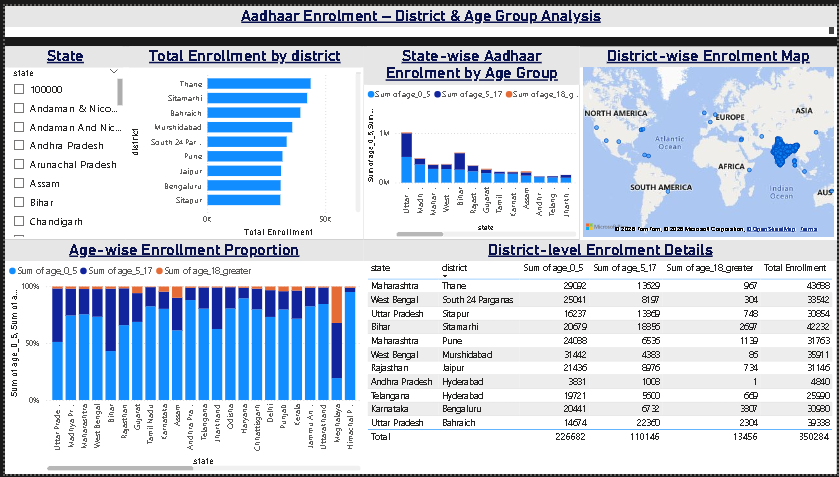

Layout of this report page (visuals, bound fields, positions):
{"tool":"powerbi","page":{"name":"Age And District Details","canvas":[1280,720],"ordinal":1},"visuals":[{"type":"columnChart","title":"State-wise Aadhaar Enrolment by Age Group","fields":{"Category":["Aadhaar_Enrolment_Fact.state"],"Y":["Sum(Aadhaar_Enrolment_Fact.age_0_5)","Sum(Aadhaar_Enrolment_Fact.age_5_17)","Sum(Aadhaar_Enrolment_Fact.age_18_greater)"]},"box":[552,62,332,298],"z":0},{"type":"clusteredBarChart","fields":{"Category":["Aadhaar_Enrolment_Fact.district"],"Y":["Aadhaar_Enrolment_Fact.Total Enrollment"]},"box":[186,62,366,298],"z":1},{"type":"hundredPercentStackedColumnChart","title":"Age-wise Enrollment Proportion","fields":{"Category":["Aadhaar_Enrolment_Fact.state"],"Y":["Sum(Aadhaar_Enrolment_Fact.age_0_5)","Sum(Aadhaar_Enrolment_Fact.age_5_17)","Sum(Aadhaar_Enrolment_Fact.age_18_greater)"]},"box":[0,360,552,360],"z":2},{"type":"map","title":"District-wise Enrolment Map","fields":{"Category":["Aadhaar_Enrolment_Fact.district","Aadhaar_Enrolment_Fact.state"]},"box":[884,62,396,298],"z":3},{"type":"tableEx","title":"District-level Enrolment Details","fields":{"Values":["Aadhaar_Enrolment_Fact.state","Aadhaar_Enrolment_Fact.district","Sum(Aadhaar_Enrolment_Fact.age_0_5)","Sum(Aadhaar_Enrolment_Fact.age_5_17)","Sum(Aadhaar_Enrolment_Fact.age_18_greater)","Aadhaar_Enrolment_Fact.Total Enrollment"]},"box":[552,360,728,360],"z":4},{"type":"textbox","title":"Aadhaar Enrolment – District & Age Group Analysis","box":[0,0,1280,48],"z":5},{"type":"slicer","title":"State","fields":{"Values":["Aadhaar_Enrolment_Fact.state"]},"box":[0,62,186,298],"z":6}]}

Visuals, with their boxes in screenshot pixels (x1, y1, x2, y2), scaled from the page's 1280x720 canvas onto the 839x477 screenshot:
"State-wise Aadhaar Enrolment by Age Group" columnChart: select_region(362, 41, 579, 238)
clusteredBarChart - Aadhaar_Enrolment_Fact.district x Aadhaar_Enrolment_Fact.Total Enrollment: select_region(122, 41, 362, 238)
"Age-wise Enrollment Proportion" hundredPercentStackedColumnChart: select_region(0, 238, 362, 476)
"District-wise Enrolment Map" map: select_region(579, 41, 838, 238)
"District-level Enrolment Details" tableEx: select_region(362, 238, 838, 476)
"Aadhaar Enrolment – District & Age Group Analysis" textbox: select_region(0, 0, 838, 32)
"State" slicer: select_region(0, 41, 122, 238)
